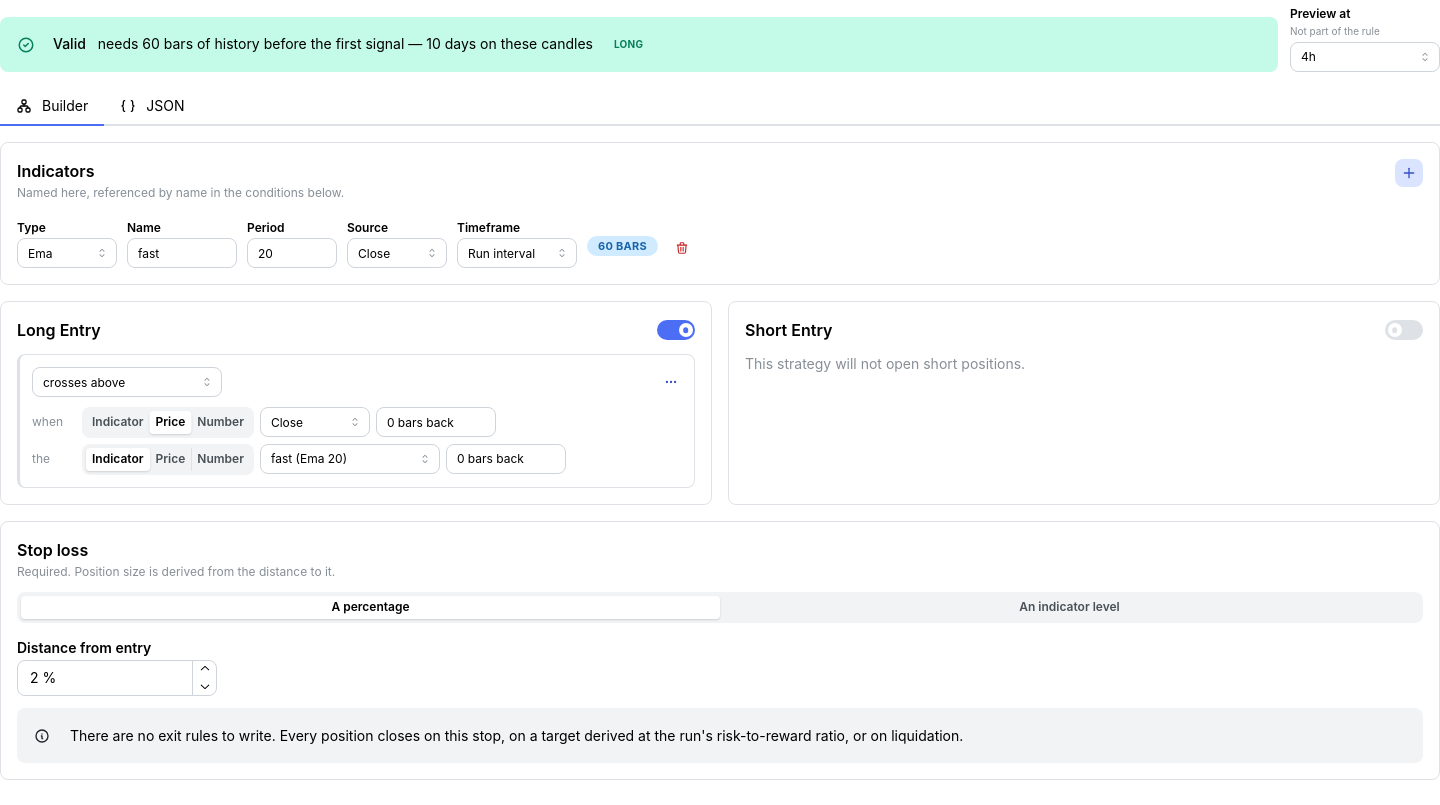
Test: RuleBuilder › does not ask the server while the document is structurally broken
Clear the field labelled "Name": (182, 253) [127,238,237,268]
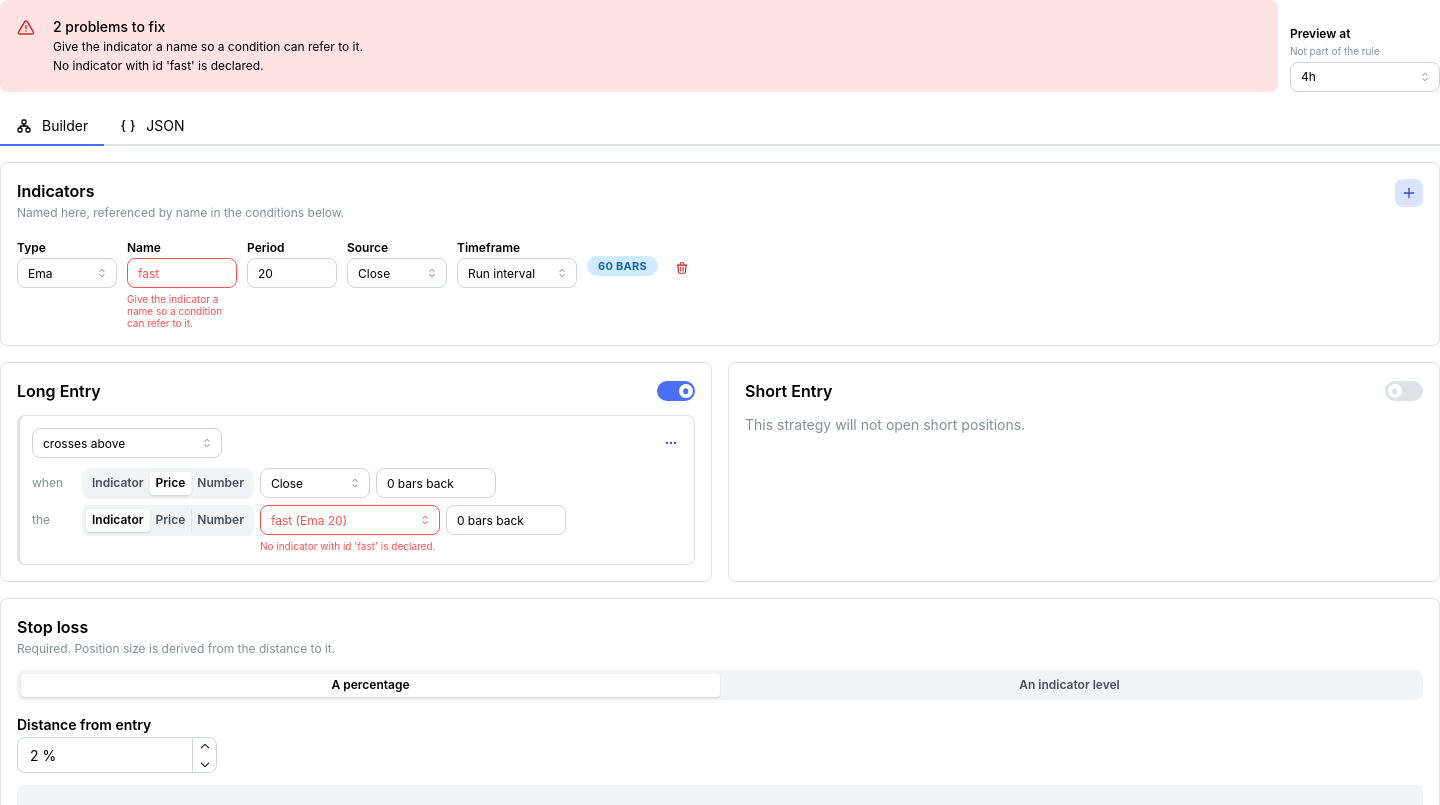
Check: the text "2 problems to fix" is shown, box [53,18,165,35]
